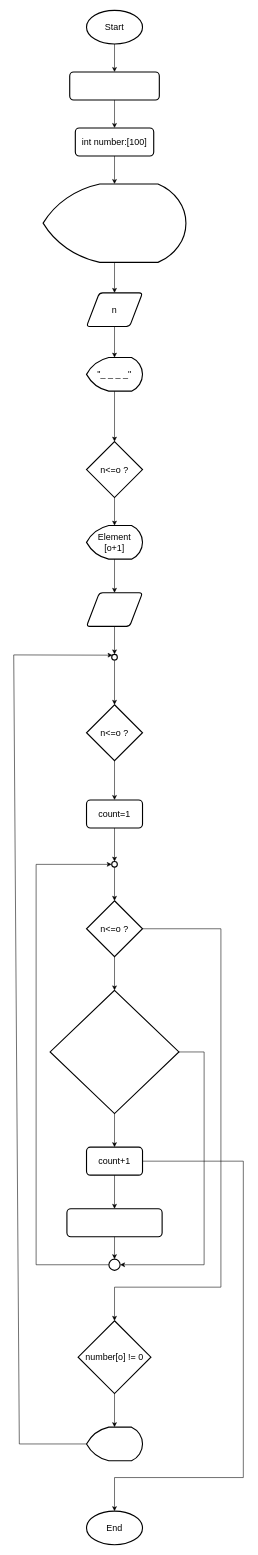
Some shapes in this 258 by 1555 pixel diagram are drawn without their labels. The centre of each missing label's shape, as x and y in pixels:
"Input number of element to be store in array" goes at pixel 114 223.
"int : n,o,e,count" goes at pixel 114 85.
"number[e] = 0" goes at pixel 114 1222.
"number[n]" goes at pixel 114 609.
"number[o] == number[e] && number[o] != 0" goes at pixel 114 1052.
"Total" goes at pixel 114 1443.
